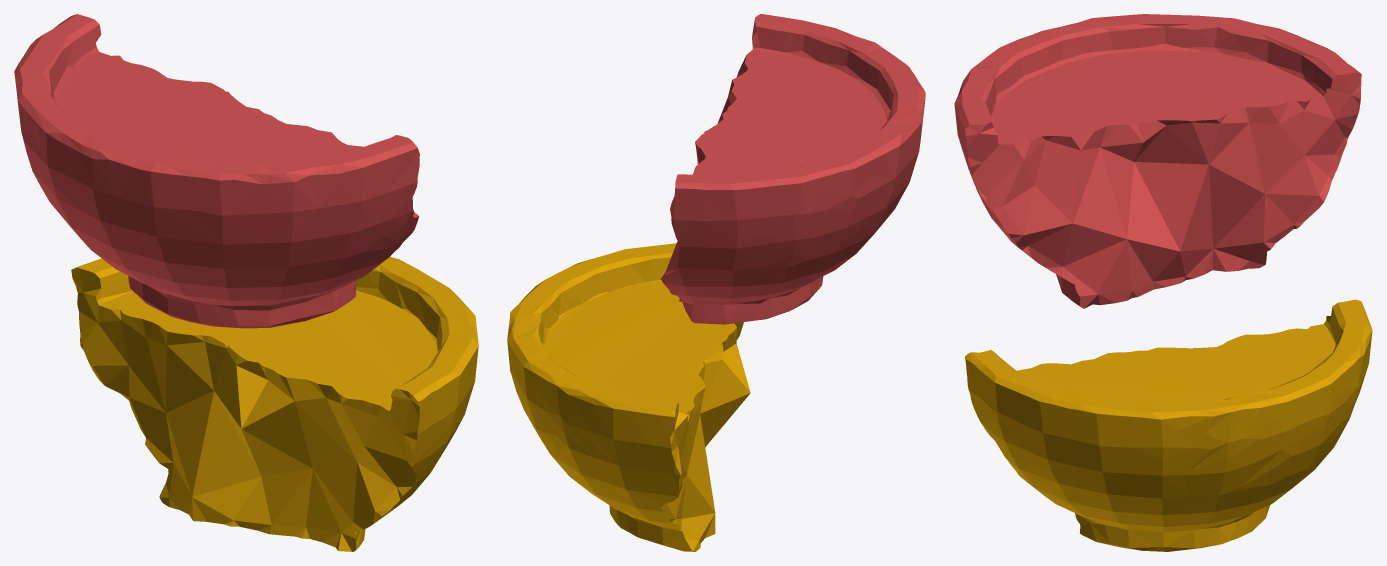
Rendered from mode_1_2pcs_transformed.glb.
The picture shows the model from 3 angles, left to right: view 1: azimuth 30°, elevation 25°; view 2: azimuth 150°, elevation 25°; view 3: azimuth 270°, elevation 25°; orthographic projection. The views are drawn at different scales.
Visible parts, largest first — view 1: piece_1.obj, piece_0.obj; view 2: piece_1.obj, piece_0.obj; view 3: piece_1.obj, piece_0.obj.
Part boxes in pixels (x1=…): piece_1.obj: x1=14, y1=14, x2=419, y2=328; piece_0.obj: x1=71, y1=257, x2=478, y2=551; piece_1.obj: x1=661, y1=14, x2=925, y2=324; piece_0.obj: x1=507, y1=243, x2=750, y2=551; piece_1.obj: x1=954, y1=14, x2=1361, y2=308; piece_0.obj: x1=965, y1=299, x2=1372, y2=551.
Size of the model in its own units: 1 by 1.08 by 0.9999.
